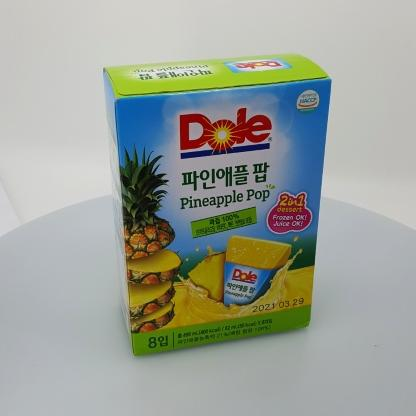---------496ML: (103, 53, 332, 356)
